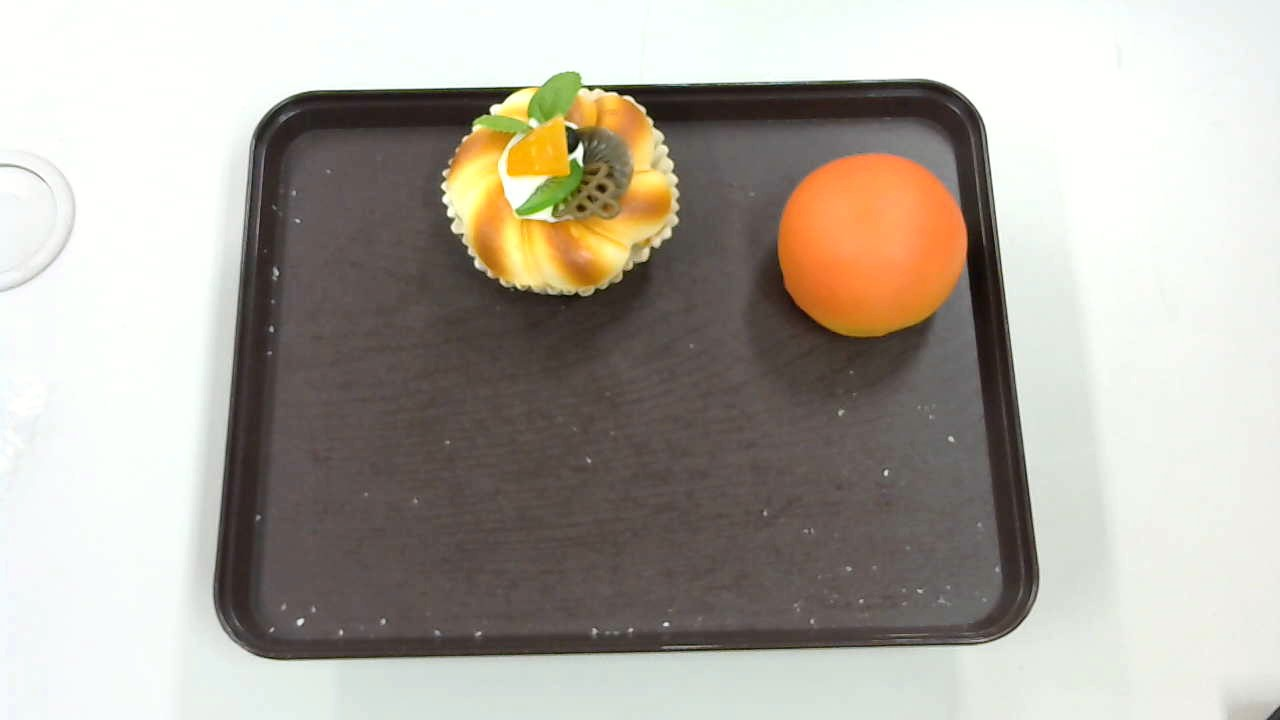bun: (776, 152, 968, 338)
fruit tart: (440, 72, 680, 297)
